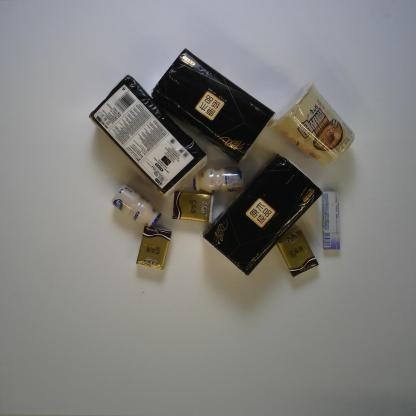Candy: (321, 191, 341, 250)
Instant Noodles: (267, 80, 356, 166)
Milk: (110, 184, 162, 228), (192, 165, 244, 193)
Tissue: (200, 153, 324, 278), (89, 74, 208, 198), (150, 48, 276, 164), (278, 228, 319, 277), (136, 226, 172, 270), (172, 191, 215, 223)
